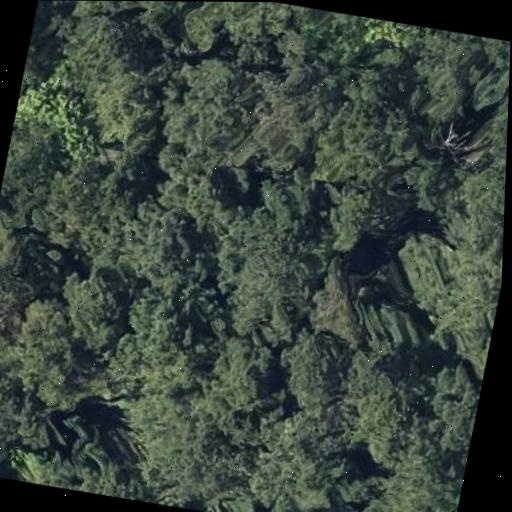tree-top: (319, 336, 487, 512), (300, 83, 437, 256), (201, 199, 341, 354), (96, 380, 265, 507), (135, 51, 280, 193), (105, 179, 217, 298), (165, 1, 315, 78), (6, 418, 134, 498), (53, 261, 145, 360), (196, 326, 288, 415), (0, 209, 49, 325), (0, 358, 46, 464)
